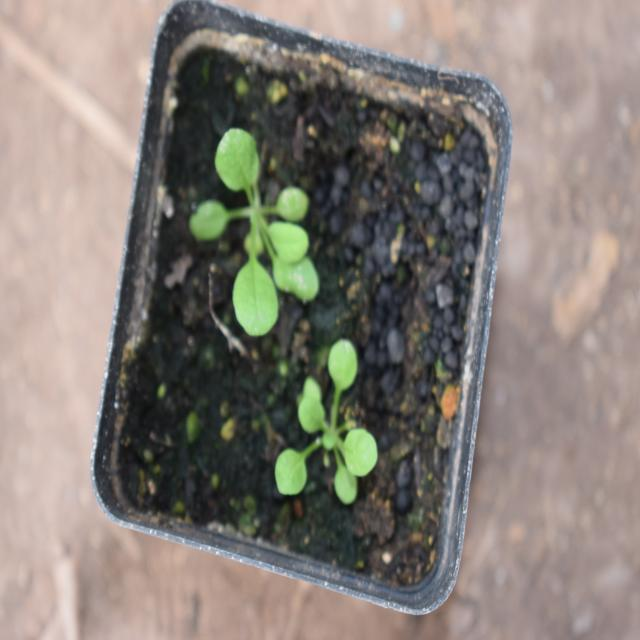Shepherd_Purse: (196, 131, 332, 340), (269, 343, 380, 510)
